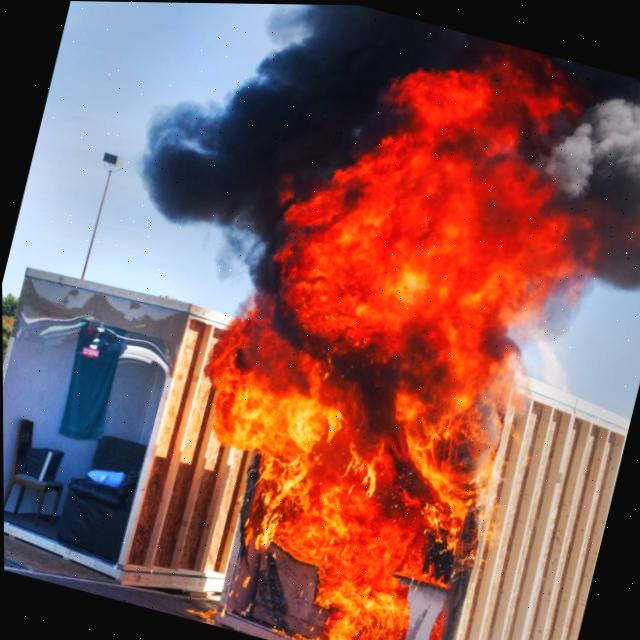fire: (209, 52, 627, 640)
smoke: (143, 4, 640, 287)
